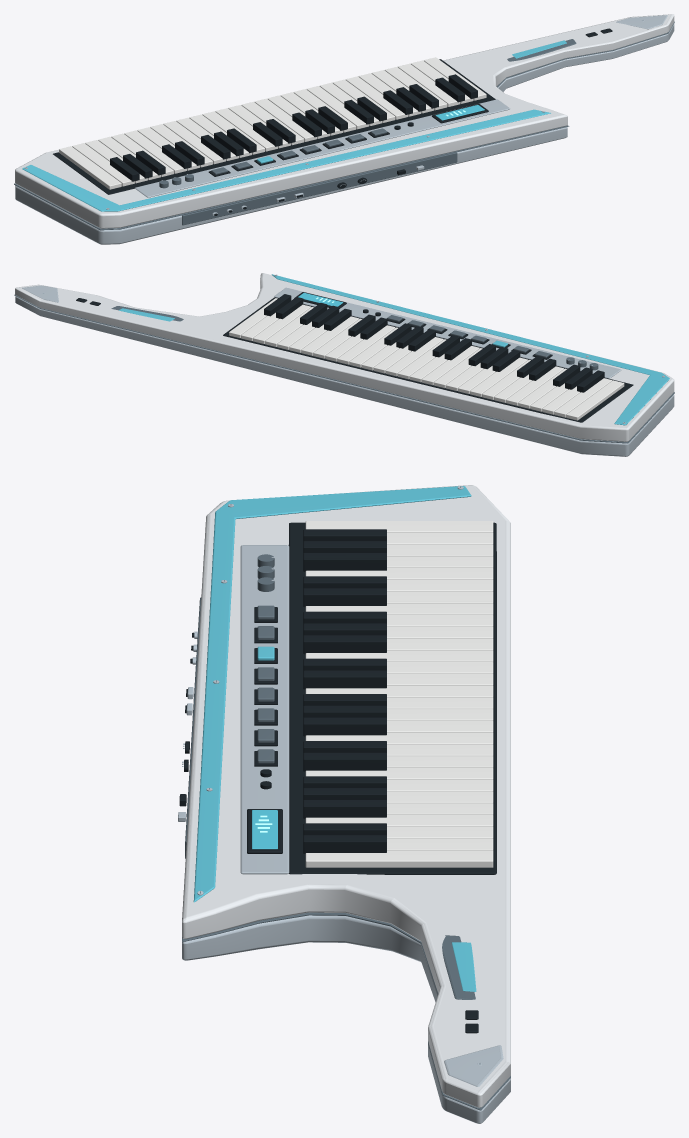
Rendered from keytar-photo-v001.glb.
3 views of the same model, one above another, from view 1: azimuth 30°, elevation 25°; view 2: azimuth 150°, elevation 25°; view 3: azimuth 270°, elevation 25° (orthographic). The views are drawn at different scales.
Parts seen in each view (by area): view 1: Pearl upper shell, Rear moulded shell, Cyan perimeter insert, Control fascia, Connector strip, Dark recessed keybed, Case seam, Key_084_white, Key_059_white, Key_083_white, Key_047_white, Key_040_white (+45 smaller); view 2: Pearl upper shell, Rear moulded shell, Cyan perimeter insert, Control fascia, Dark recessed keybed, Case seam, Key_084_white, Key_047_white, Key_052_white, Key_083_white, Key_059_white, Key_064_white (+44 smaller); view 3: Pearl upper shell, Cyan perimeter insert, Control fascia, Dark recessed keybed, Rear moulded shell, Key_036_white, Key_084_white, Key_053_white, Key_060_white, Key_041_white, Key_048_white, Key_077_white (+45 smaller).
Boxes of the visible parts, bbox=[...] form: Pearl upper shell: bbox=[15, 14, 674, 228]; Rear moulded shell: bbox=[15, 24, 674, 244]; Cyan perimeter insert: bbox=[22, 109, 550, 211]; Control fascia: bbox=[135, 99, 510, 197]; Connector strip: bbox=[182, 152, 457, 225]; Dark recessed keybed: bbox=[53, 59, 495, 194]; Case seam: bbox=[14, 21, 674, 230]; Key_084_white: bbox=[59, 146, 121, 189]; Key_059_white: bbox=[254, 98, 317, 141]; Key_083_white: bbox=[72, 143, 134, 186]; Key_047_white: bbox=[345, 76, 408, 119]; Key_040_white: bbox=[398, 63, 460, 106]; Pearl upper shell: bbox=[15, 273, 674, 441]; Rear moulded shell: bbox=[15, 296, 674, 456]; Cyan perimeter insert: bbox=[271, 274, 669, 425]; Control fascia: bbox=[274, 287, 621, 378]; Dark recessed keybed: bbox=[223, 297, 633, 422]; Case seam: bbox=[14, 294, 674, 443]; Key_084_white: bbox=[566, 380, 624, 420]; Key_047_white: bbox=[301, 316, 359, 355]; Key_052_white: bbox=[337, 325, 395, 364]; Key_083_white: bbox=[554, 378, 612, 417]; Key_059_white: bbox=[385, 337, 443, 376]; Key_064_white: bbox=[421, 346, 479, 385]; Pearl upper shell: bbox=[182, 485, 510, 1107]; Cyan perimeter insert: bbox=[193, 486, 471, 902]; Control fascia: bbox=[240, 545, 289, 874]; Dark recessed keybed: bbox=[288, 522, 496, 874]; Rear moulded shell: bbox=[182, 915, 510, 1123]; Key_036_white: bbox=[305, 850, 493, 867]; Key_084_white: bbox=[305, 521, 493, 532]; Key_053_white: bbox=[305, 732, 493, 744]; Key_060_white: bbox=[305, 685, 493, 697]; Key_041_white: bbox=[305, 815, 493, 826]; Key_048_white: bbox=[305, 768, 493, 779]; Key_077_white: bbox=[305, 568, 493, 579].
Bounding box in the file's own units: 1.25 × 0.0849 × 0.2944.
